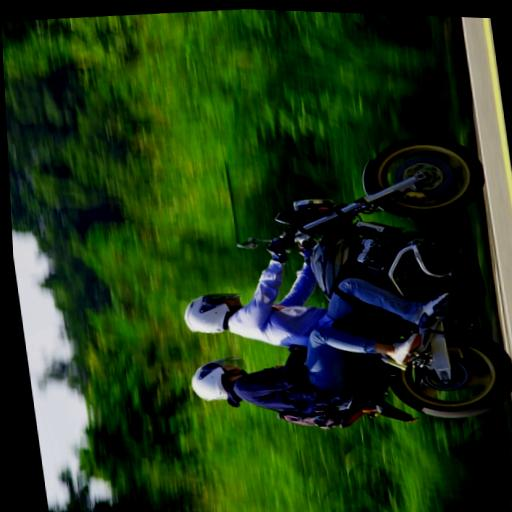Helmet: (186, 353, 251, 406), (177, 291, 245, 336)
